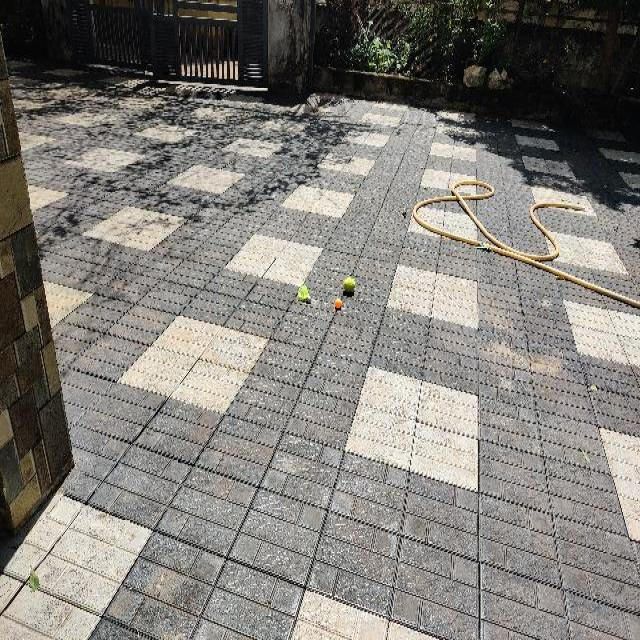ping-pong-ball: (334, 298, 342, 307)
